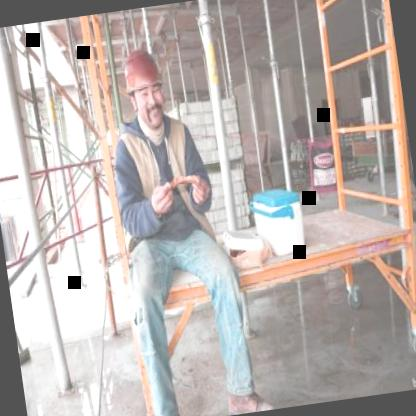helmet: (114, 44, 176, 136)
